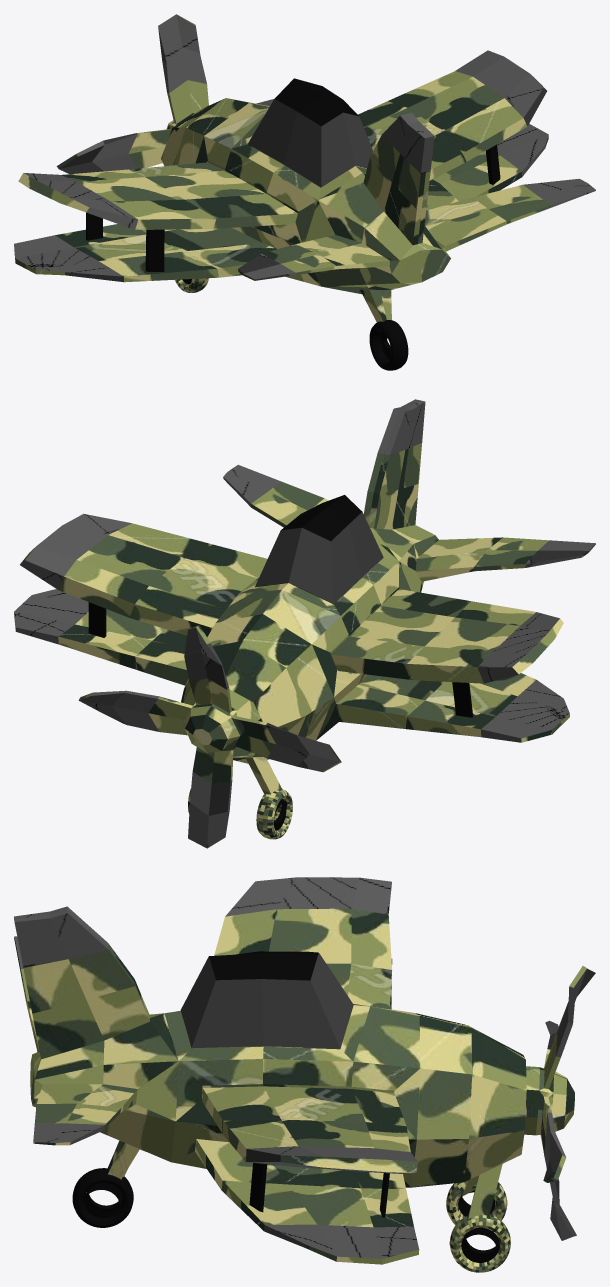
The model's file is toyplane_animate.glb.
3 views of the same model, one above another, from view 1: azimuth 30°, elevation 25°; view 2: azimuth 150°, elevation 25°; view 3: azimuth 270°, elevation 25° (orthographic). The views are drawn at different scales.
Parts seen in each view (by area): view 1: Cylinder, Cylinder.001; view 2: Cylinder, Cylinder.001; view 3: Cylinder, Cylinder.001.
Part boxes in pixels (bbox=[...]): Cylinder: bbox=[14, 50, 595, 370]; Cylinder.001: bbox=[56, 14, 273, 174]; Cylinder: bbox=[14, 399, 595, 839]; Cylinder.001: bbox=[78, 625, 341, 848]; Cylinder: bbox=[14, 877, 526, 1272]; Cylinder.001: bbox=[524, 966, 595, 1240].
Bounding box in the file's own units: 6.54 × 3.45 × 5.22.
Materials: 5 (3 with a texture image).
